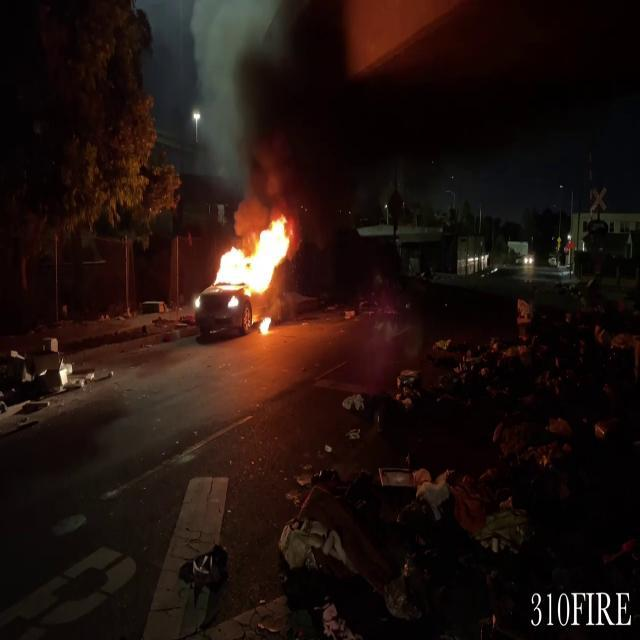Fire: (205, 212, 298, 325)
Smoke: (185, 3, 282, 197)
